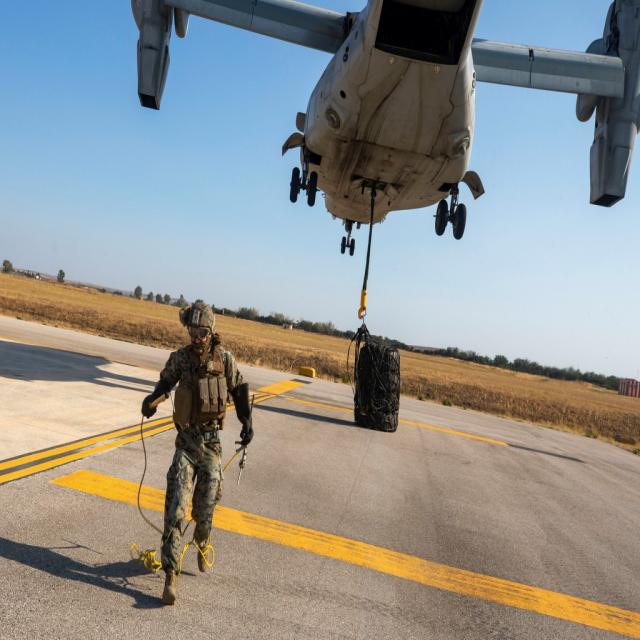MIL_Plane: (131, 1, 640, 256)
